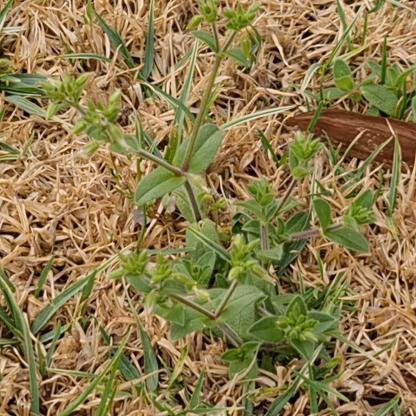Weeds: (43, 0, 376, 387), (318, 58, 415, 117)
